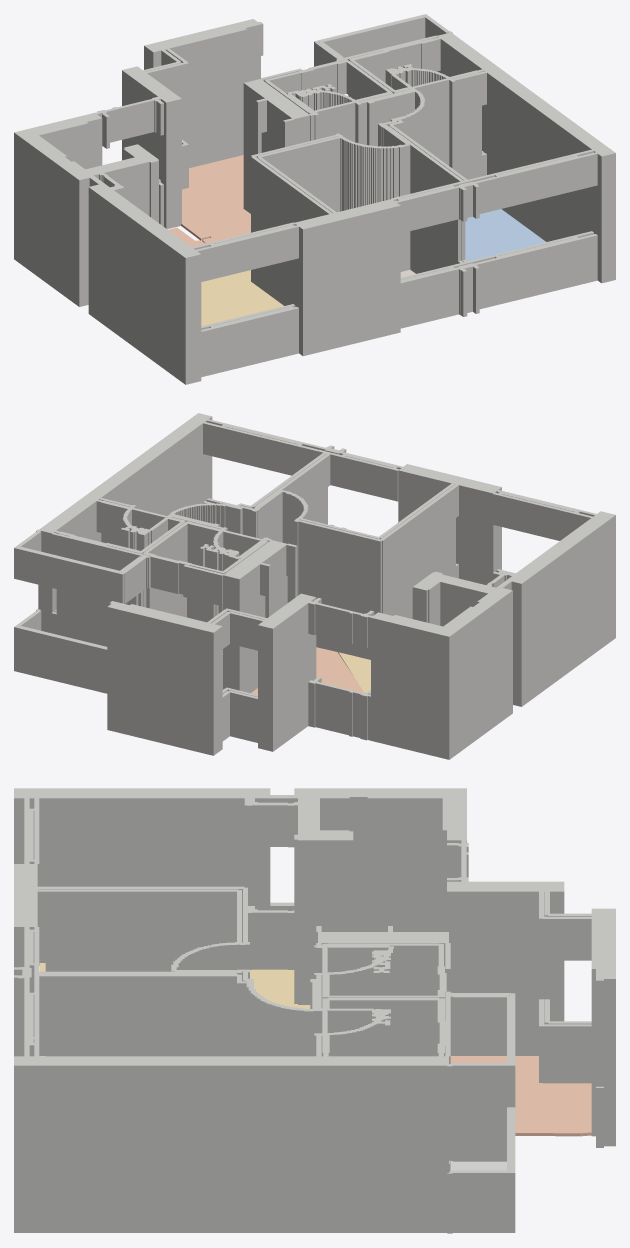
3 renders of one model, top to bottom at view 1: azimuth 30°, elevation 25°; view 2: azimuth 150°, elevation 25°; view 3: azimuth 270°, elevation 25°, orthographic. The views are drawn at different scales.
Parts seen in each view (by area): view 1: walls, room:kitchen:0, room:living:3, room:bedroom:5; view 2: walls, room:kitchen:0, room:living:3; view 3: walls, room:kitchen:0, room:living:3.
Part boxes in pixels (left/top/right/bottom): walls: left=14, top=14, right=615, bottom=384; room:kitchen:0: left=168, top=155, right=250, bottom=246; room:living:3: left=201, top=270, right=283, bottom=326; room:bedroom:5: left=465, top=209, right=546, bottom=261; walls: left=14, top=413, right=615, bottom=759; room:kitchen:0: left=251, top=647, right=363, bottom=694; room:living:3: left=338, top=652, right=370, bottom=692; walls: left=14, top=788, right=615, bottom=1233; room:kitchen:0: left=450, top=1056, right=591, bottom=1136; room:living:3: left=39, top=963, right=310, bottom=1008.
Bounding box in the file's own units: 9.97 × 2.8 × 9.13.
